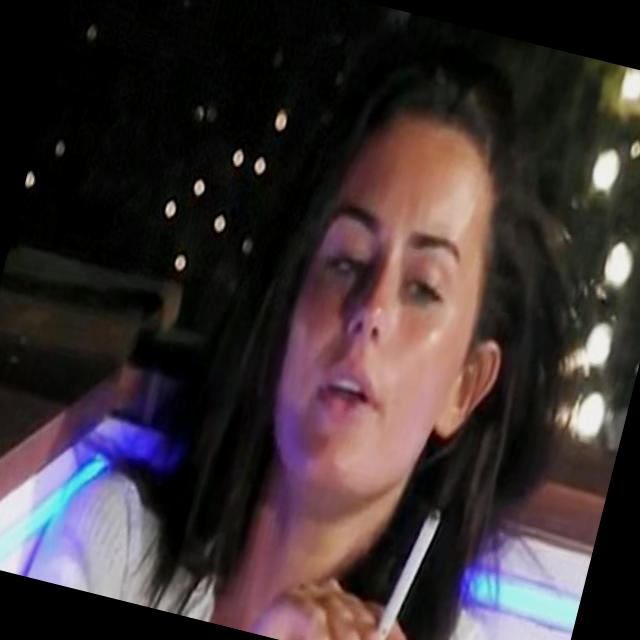smoke: (374, 471, 477, 640)
